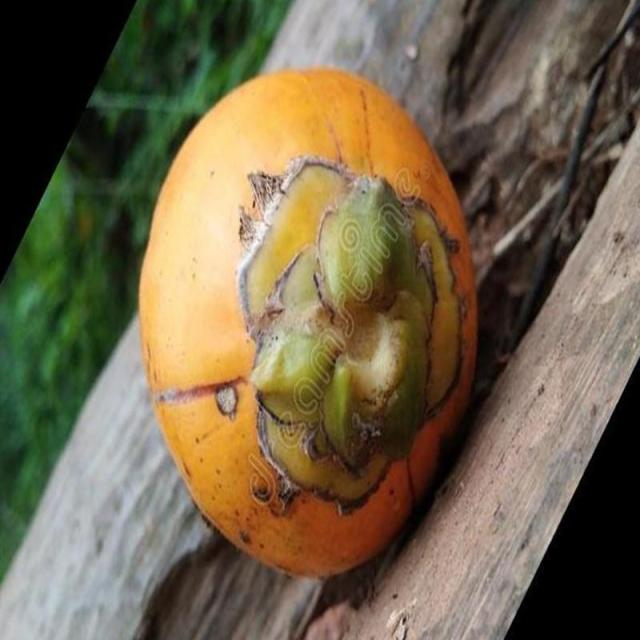good: (138, 68, 477, 576)
